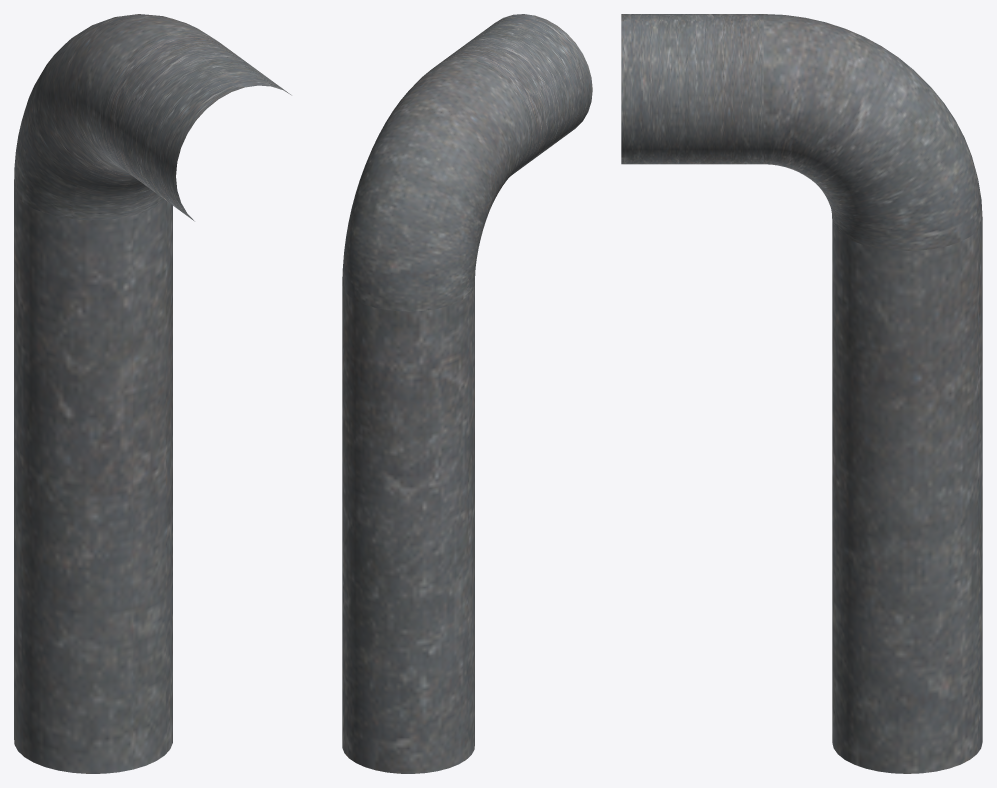
File: scenery_1.glb
The picture shows the model from 3 angles, left to right: view 1: azimuth 30°, elevation 25°; view 2: azimuth 150°, elevation 25°; view 3: azimuth 270°, elevation 25°; orthographic projection. The views are drawn at different scales.
Visible parts, largest first — view 1: Circle; view 2: Circle; view 3: Circle.
Boxes of the visible parts, x1=… form: Circle: x1=14, y1=14, x2=291, y2=773; Circle: x1=342, y1=14, x2=592, y2=773; Circle: x1=621, y1=14, x2=982, y2=773.
Bounding box in the file's own units: 2.11 × 11.17 × 5.07.
Materials: 1 (1 with a texture image).
